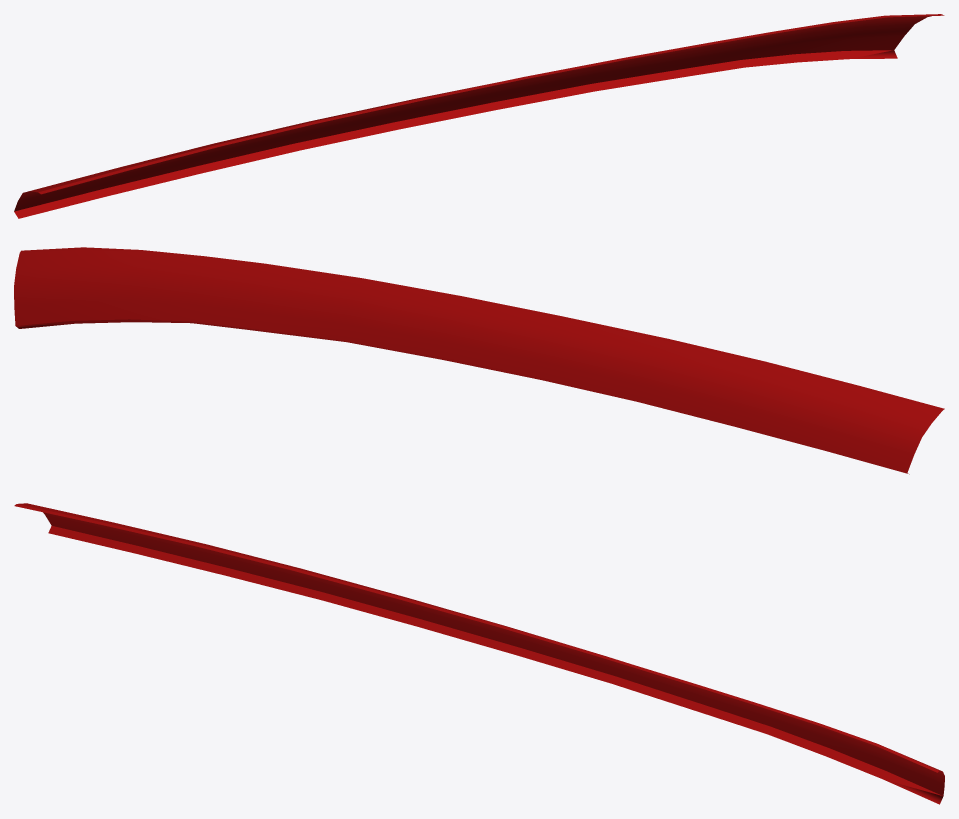
3 views of the same model, one above another, from view 1: azimuth 30°, elevation 25°; view 2: azimuth 150°, elevation 25°; view 3: azimuth 330°, elevation 25° (orthographic).
Visible parts, largest first — view 1: Y175_18_18A5_L_1_DaS_Y175_18_18A5_L, Y175_18_18A5_L_1_DaS_Y175_18_18A5_L_E; view 2: Y175_18_18A5_L_1_DaS_Y175_18_18A5_L, Y175_18_18A5_L_1_DaS_Y175_18_18A5_L_E; view 3: Y175_18_18A5_L_1_DaS_Y175_18_18A5_L, Y175_18_18A5_L_1_DaS_Y175_18_18A5_L_E.
Boxes of the visible parts, bbox=[...] form: Y175_18_18A5_L_1_DaS_Y175_18_18A5_L: bbox=[14, 16, 931, 211]; Y175_18_18A5_L_1_DaS_Y175_18_18A5_L_E: bbox=[14, 14, 944, 218]; Y175_18_18A5_L_1_DaS_Y175_18_18A5_L: bbox=[14, 249, 941, 472]; Y175_18_18A5_L_1_DaS_Y175_18_18A5_L_E: bbox=[17, 247, 944, 474]; Y175_18_18A5_L_1_DaS_Y175_18_18A5_L: bbox=[18, 503, 944, 804]; Y175_18_18A5_L_1_DaS_Y175_18_18A5_L_E: bbox=[14, 504, 942, 795].
Size of the model in its own units: 74.45 by 8.85 by 5.84.
